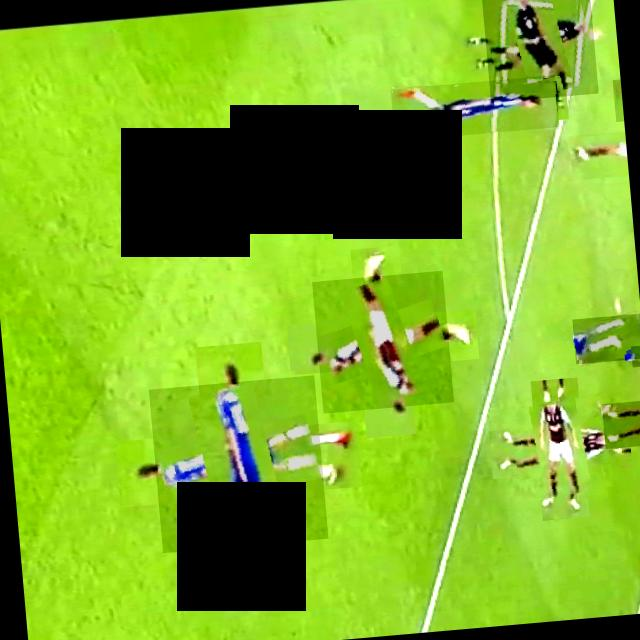referee: (480, 0, 597, 102)
soccer-player: (147, 375, 327, 553), (310, 270, 452, 413), (506, 396, 612, 502), (389, 75, 558, 141), (570, 313, 640, 364), (566, 130, 628, 180), (600, 399, 640, 448), (611, 78, 624, 122), (629, 345, 640, 367)
